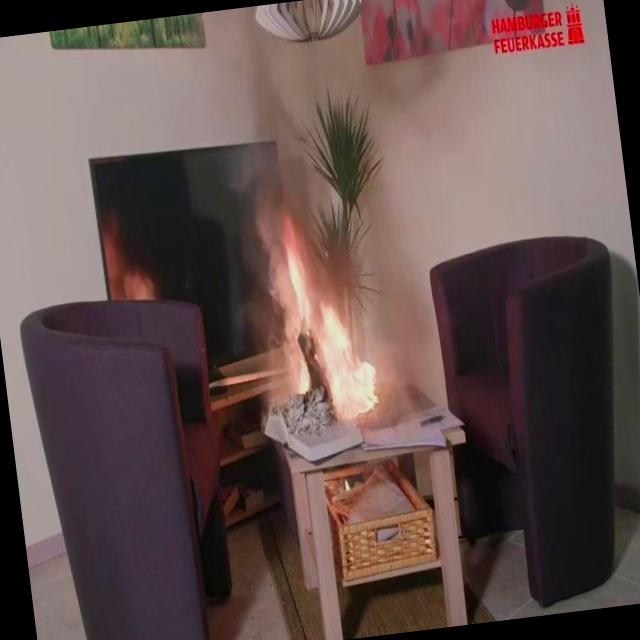fire: (246, 187, 386, 442)
